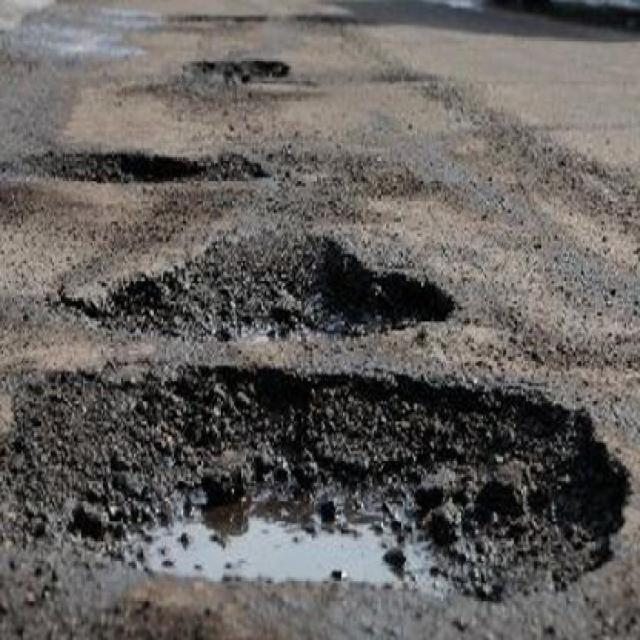pothole: (0, 357, 631, 606), (81, 220, 457, 349), (0, 144, 272, 190), (180, 52, 292, 88)
